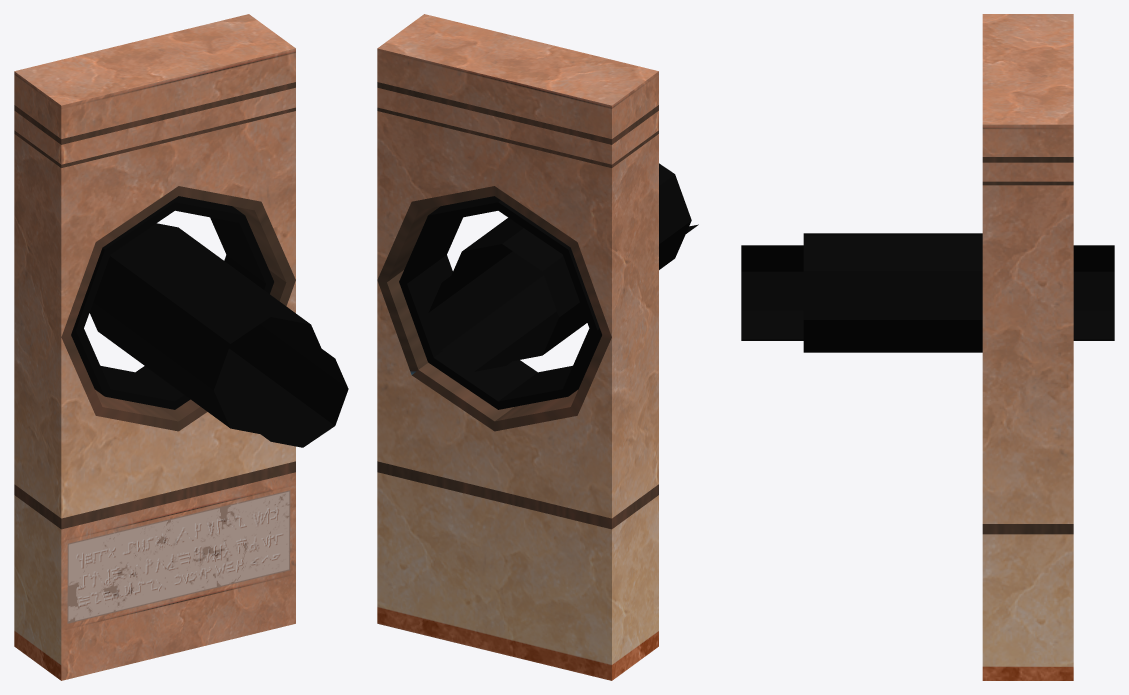
Rendered from Colony_Monolith_Art.glb.
The picture shows the model from 3 angles, left to right: view 1: azimuth 30°, elevation 25°; view 2: azimuth 150°, elevation 25°; view 3: azimuth 270°, elevation 25°; orthographic projection. The views are drawn at different scales.
Parts seen in each view (by area): view 1: Colony_Monolith_Art; view 2: Colony_Monolith_Art; view 3: Colony_Monolith_Art.
Part boxes in pixels (x1,y1,x2,y2): Colony_Monolith_Art: (14,14,348,680); Colony_Monolith_Art: (377,14,698,680); Colony_Monolith_Art: (741,14,1114,680).
Bounding box in the file's own units: 2.57 × 6.03 × 3.67.
Materials: 2 (2 with a texture image).
